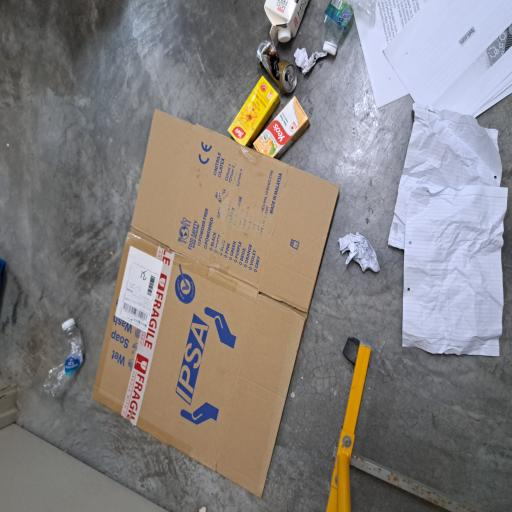can: (314, 342, 354, 397)
cardboard: (10, 122, 303, 454)
drink carton: (275, 303, 328, 375), (264, 338, 312, 413), (350, 351, 384, 413)
paper: (303, 468, 383, 512), (179, 450, 210, 507), (327, 392, 348, 436)
plastic bottle: (87, 59, 141, 112), (353, 431, 384, 501)
plastic bottle cap: (342, 431, 353, 450), (136, 82, 146, 101)
pop tab: (320, 384, 328, 392)
